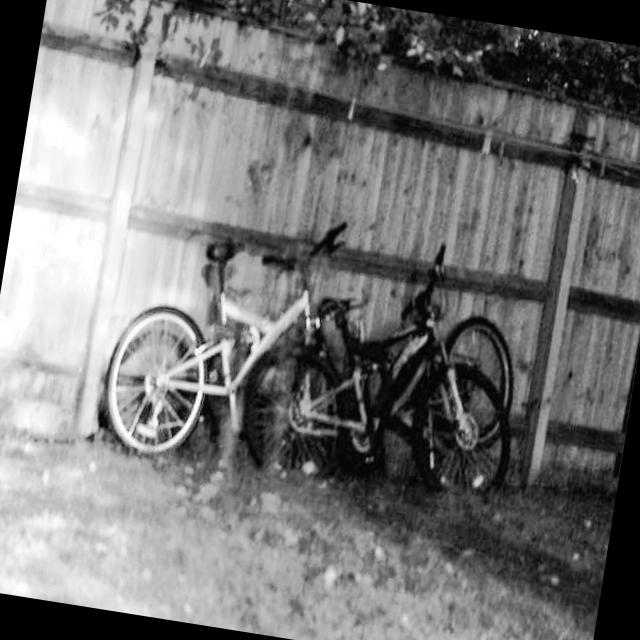Bicycle: (228, 198, 560, 513), (61, 240, 368, 487)
